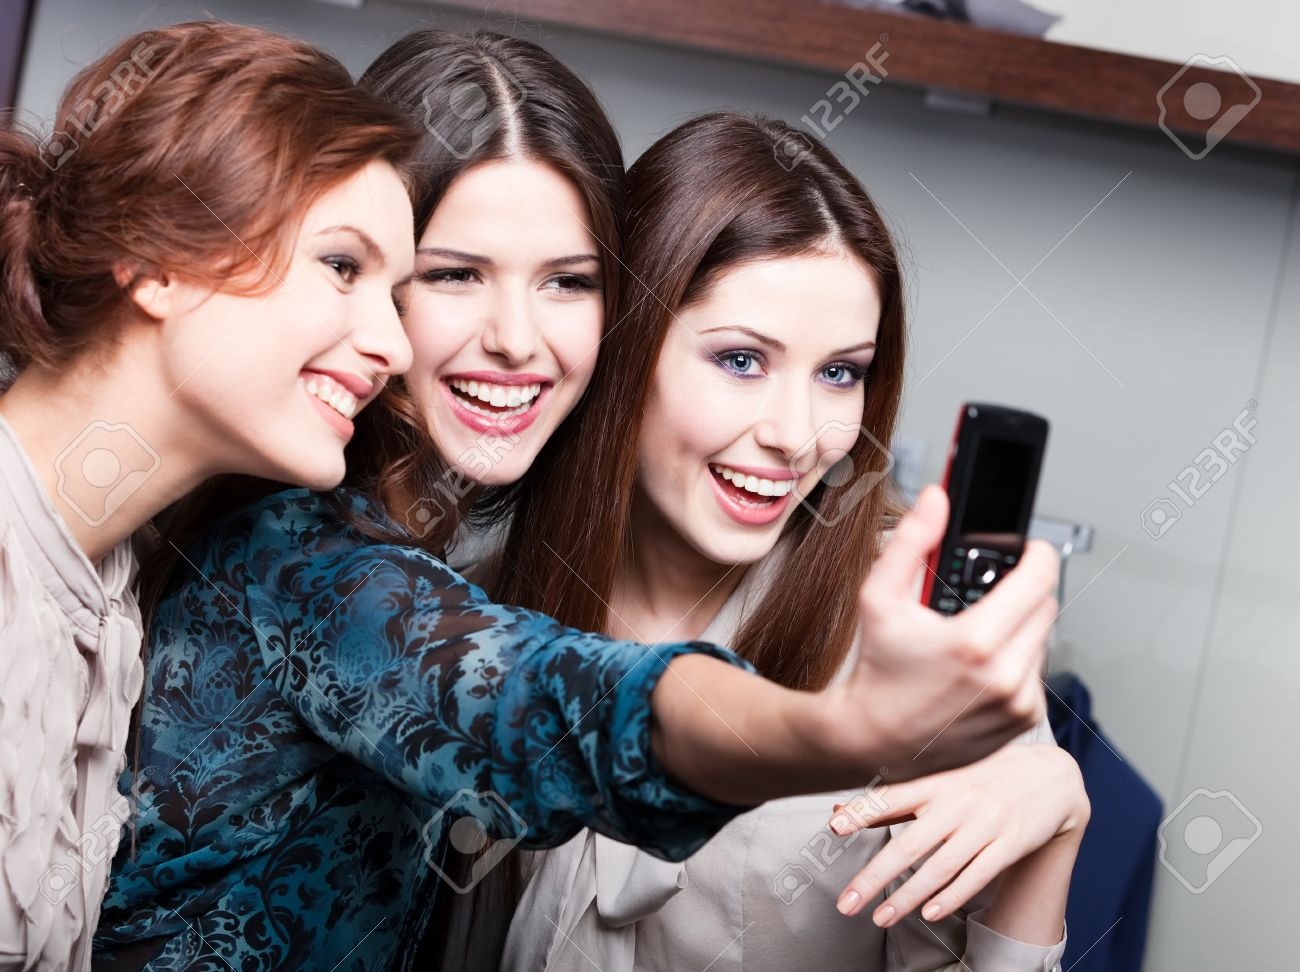bare: (202, 294, 406, 493), (638, 391, 859, 561), (405, 303, 591, 485)
